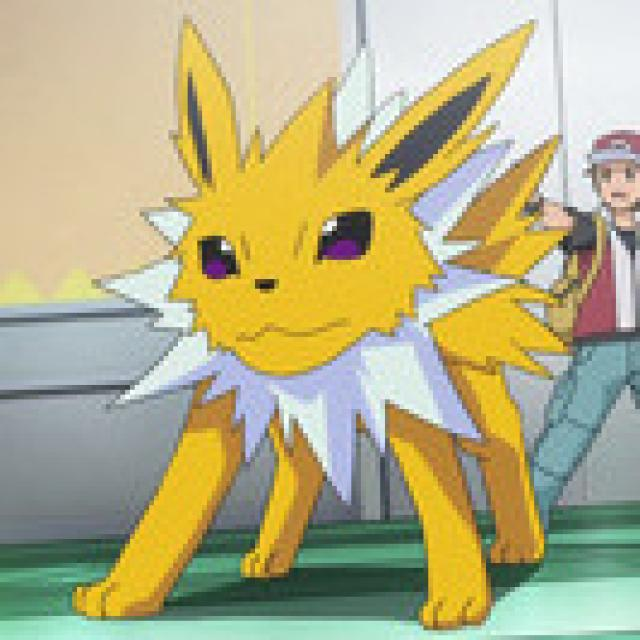Jolteon: (73, 3, 564, 640)
